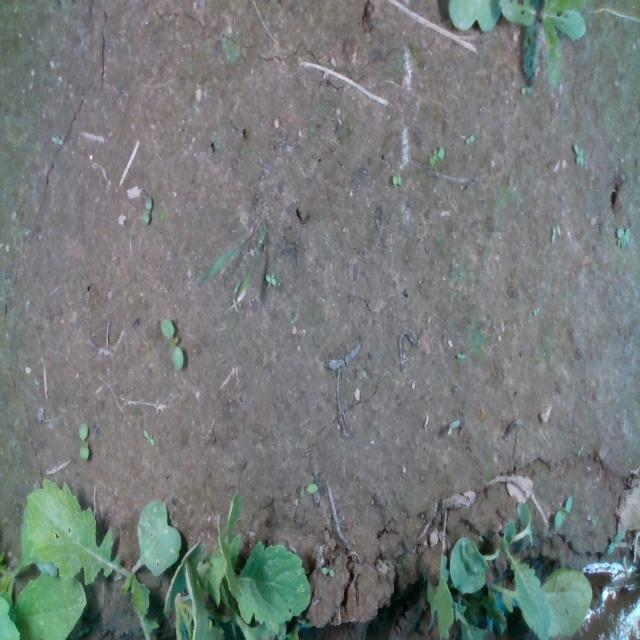weed: (158, 318, 184, 372), (553, 492, 573, 530), (76, 420, 90, 462), (613, 223, 631, 250), (427, 143, 445, 167), (140, 194, 152, 226), (298, 481, 318, 498), (572, 140, 584, 167), (390, 170, 404, 188), (142, 428, 156, 446), (263, 270, 277, 287), (320, 565, 334, 579), (464, 130, 474, 146)
